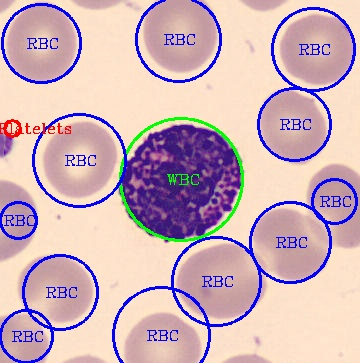RBC: (174, 241, 269, 321), (39, 118, 118, 200), (5, 0, 79, 84), (249, 205, 330, 281), (277, 12, 357, 87), (141, 0, 219, 75), (16, 252, 96, 325), (257, 86, 329, 164), (304, 160, 358, 250), (122, 310, 204, 362), (0, 176, 39, 264)
WBC: (120, 121, 242, 241)
